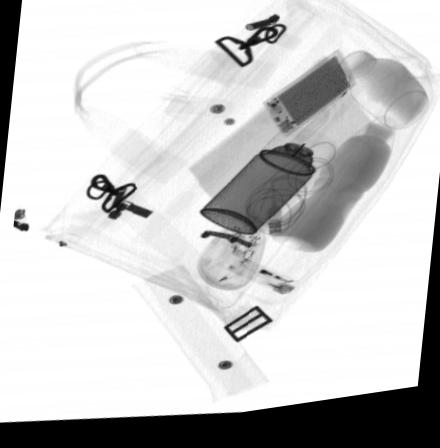Lighter: (224, 264, 301, 305)
Powerbank: (260, 58, 356, 147)
Sprayer: (197, 133, 336, 242)
